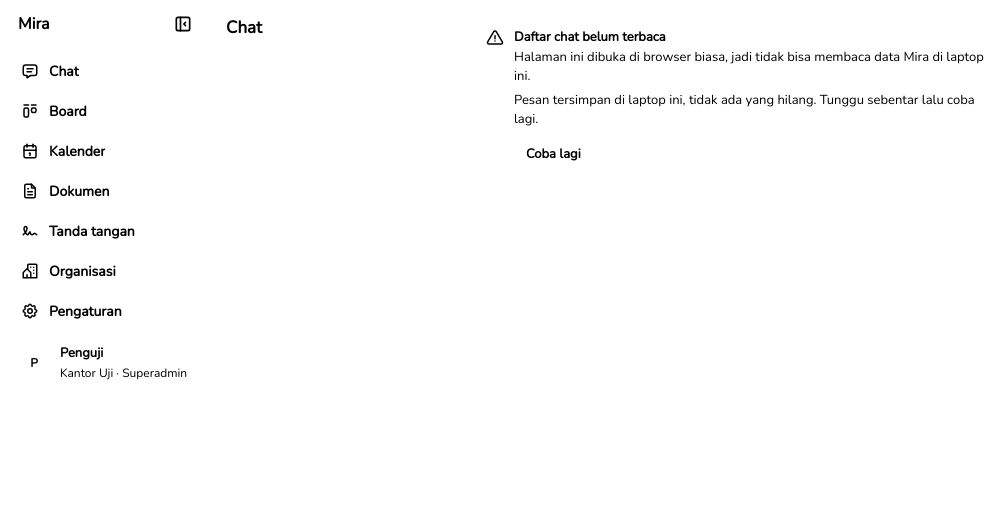
Test case: menu profil di sidebar › Hapus foto ikut peta pemilik walau data foto belum atau gagal dimuat
The image size is (1001, 523).
Click the button with aria-label "Menu profil Anda" at (104, 363), box [10,338,198,388]
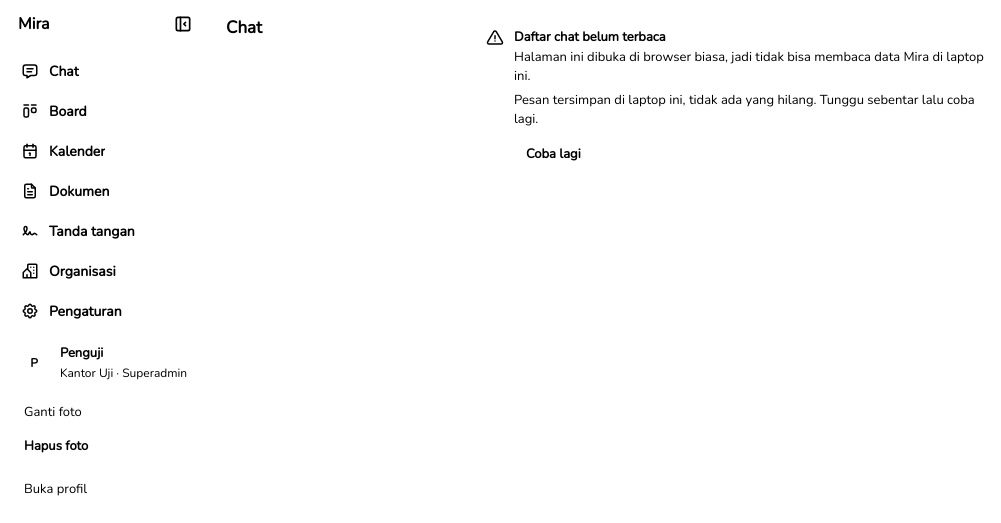
Now the menu items read "Ganti foto", "Hapus foto", "Buka profil", in this order, box [14,396,206,430]; [14,430,206,464]; [14,472,206,506]
